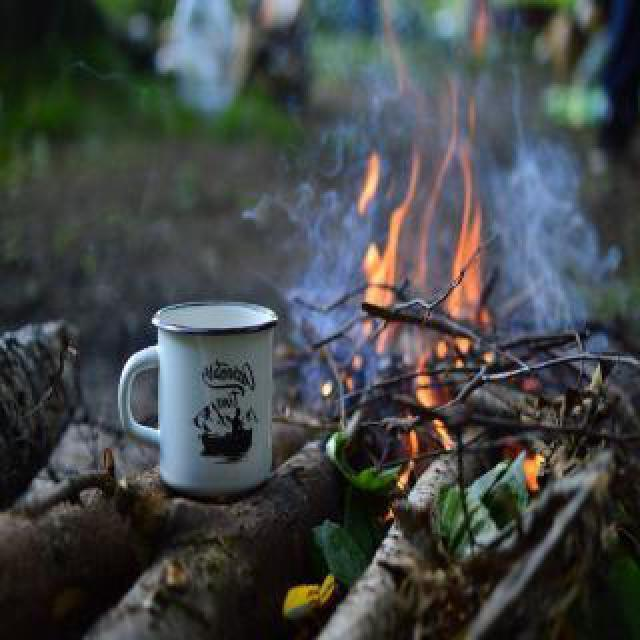Fire: (360, 162, 486, 368)
Smoke: (486, 18, 628, 374), (244, 106, 368, 392)
